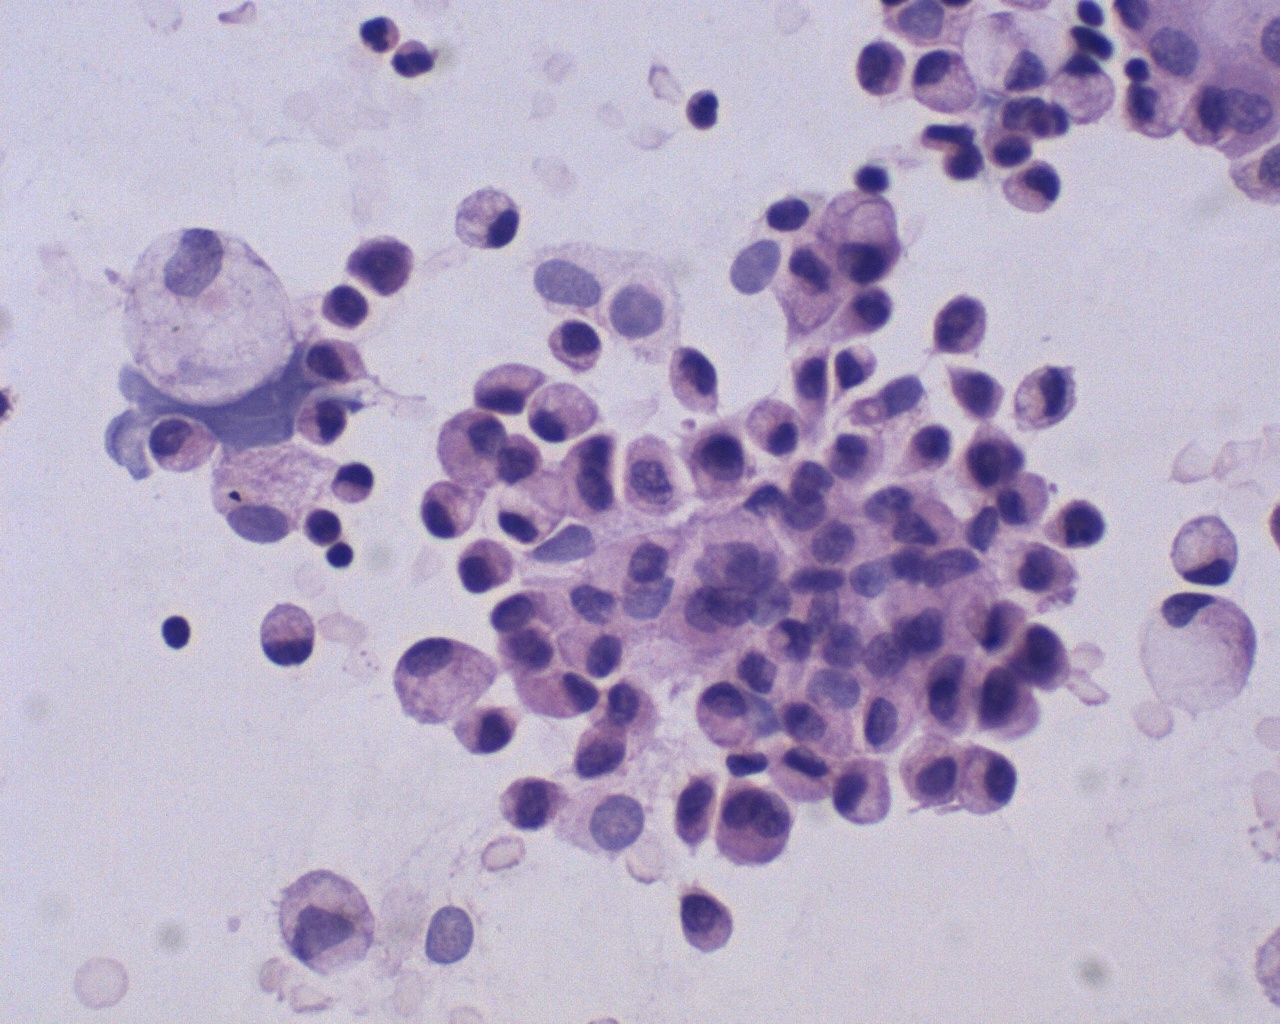ab: (683, 429, 751, 502), (498, 768, 569, 836), (675, 882, 736, 961), (1044, 489, 1111, 556), (925, 287, 990, 353), (850, 34, 906, 96), (316, 279, 373, 335)
histo: (109, 218, 305, 412), (1140, 590, 1257, 717), (962, 7, 1077, 94), (1165, 508, 1247, 588), (446, 183, 526, 255)
lymph: (155, 607, 197, 657)
meso: (394, 631, 502, 728), (714, 785, 798, 874), (245, 594, 327, 673), (897, 731, 972, 812), (959, 734, 1022, 823), (413, 474, 480, 544), (531, 378, 601, 444), (450, 533, 516, 597)
neutro: (357, 9, 401, 59)
